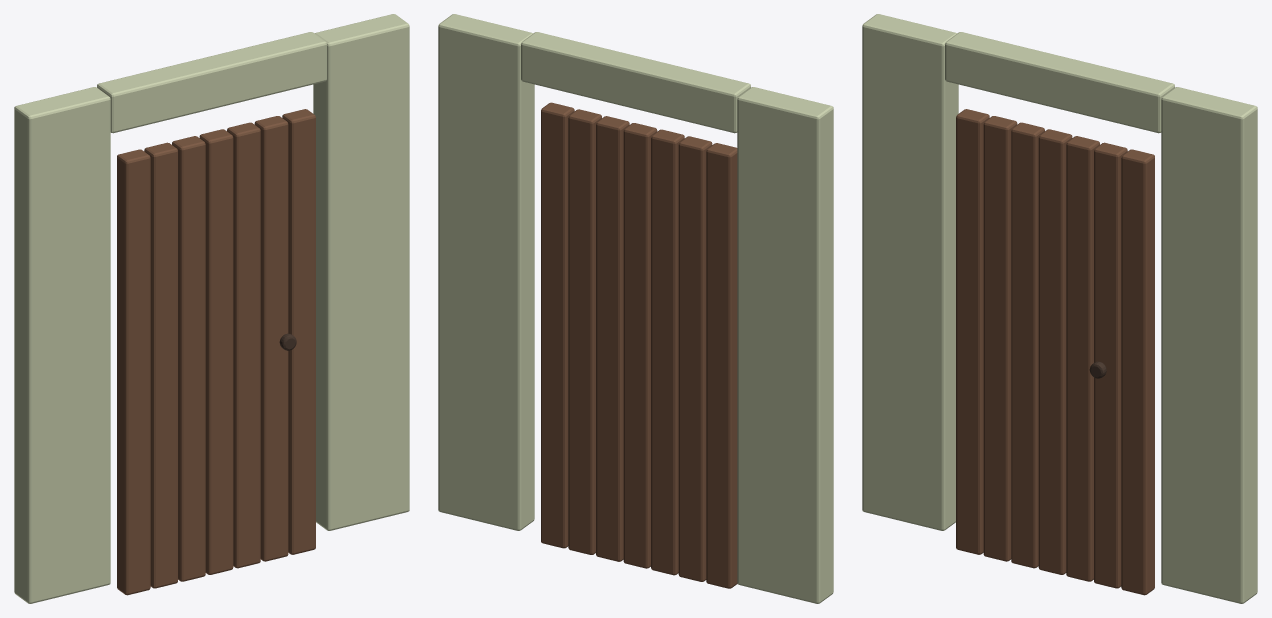
File: wall_door_2m__finish.glb
3 views of the same model, side by side, from view 1: azimuth 30°, elevation 25°; view 2: azimuth 150°, elevation 25°; view 3: azimuth 330°, elevation 25° (orthographic).
Visible parts, largest first — view 1: wall_door_2m__finish__mesh_00; view 2: wall_door_2m__finish__mesh_00; view 3: wall_door_2m__finish__mesh_00.
Part boxes in pixels (<box>): wall_door_2m__finish__mesh_00: <box>14,14,409,603</box>; wall_door_2m__finish__mesh_00: <box>438,14,833,603</box>; wall_door_2m__finish__mesh_00: <box>862,14,1257,603</box>.
Bounding box in the file's own units: 1.8 × 2.27 × 0.2385.
